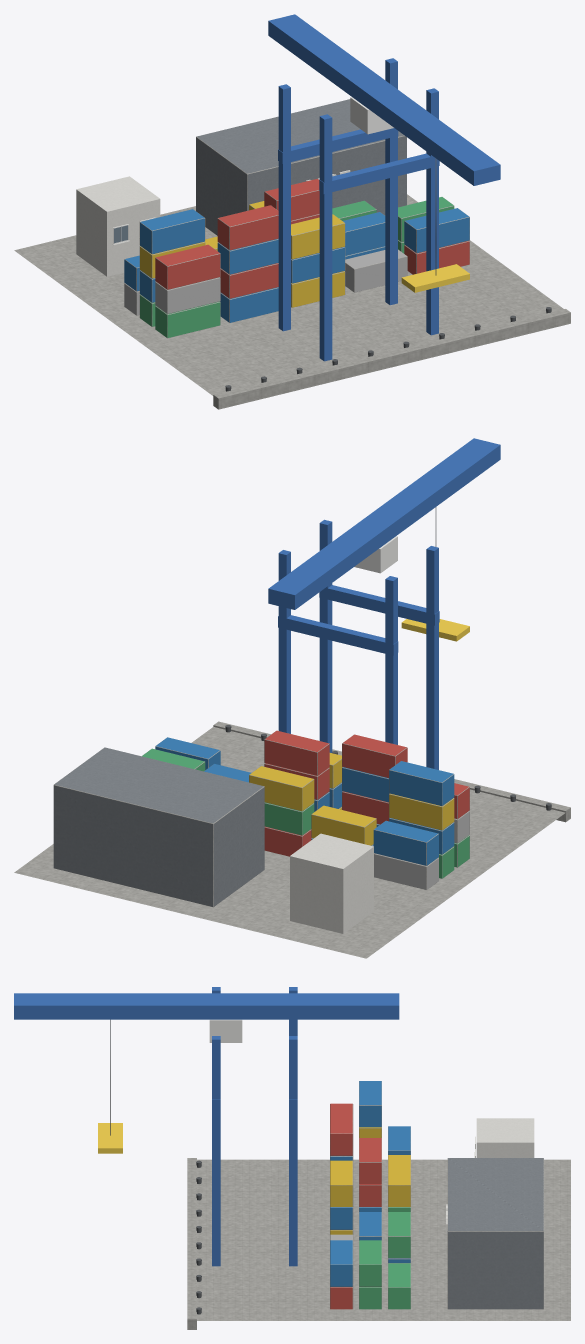
File: port.gltf
The picture shows the model from 3 angles, top to bottom: view 1: azimuth 30°, elevation 25°; view 2: azimuth 150°, elevation 25°; view 3: azimuth 270°, elevation 25°; orthographic projection. The views are drawn at different scales.
Parts seen in each view (by area): view 1: port; view 2: port; view 3: port.
Part boxes in pixels (x1,y1,x2,y2): port: [14, 14, 570, 409]; port: [14, 438, 570, 958]; port: [14, 987, 570, 1329].
Size of the model in its own units: 7.92 by 5.72 by 11.56.
Materials: 14 (3 with a texture image).
